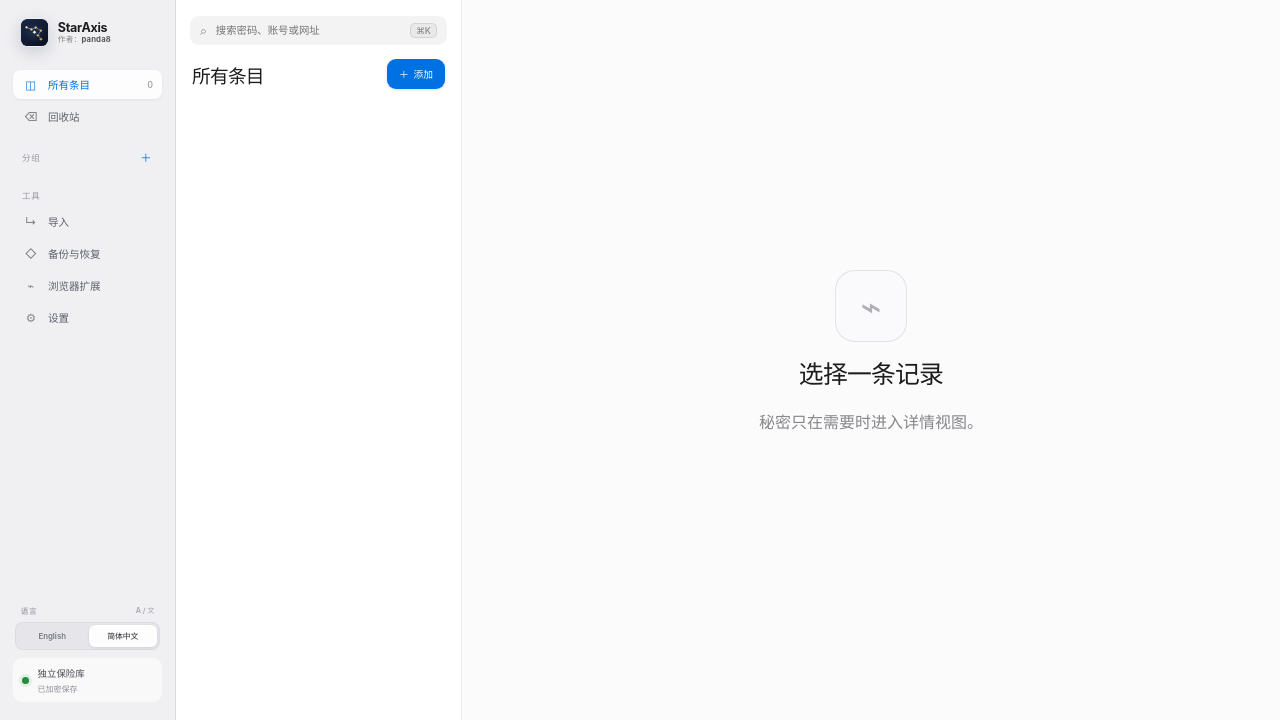
Scenario: E01 mist settings item editors › switches the vault interface language immediately and persists it
This screenshot has width=1280, height=720.
Expected: the element "语言" is shown, [0,0,176,719]
Click the button "English" at (52, 636), box [18,625,86,647]
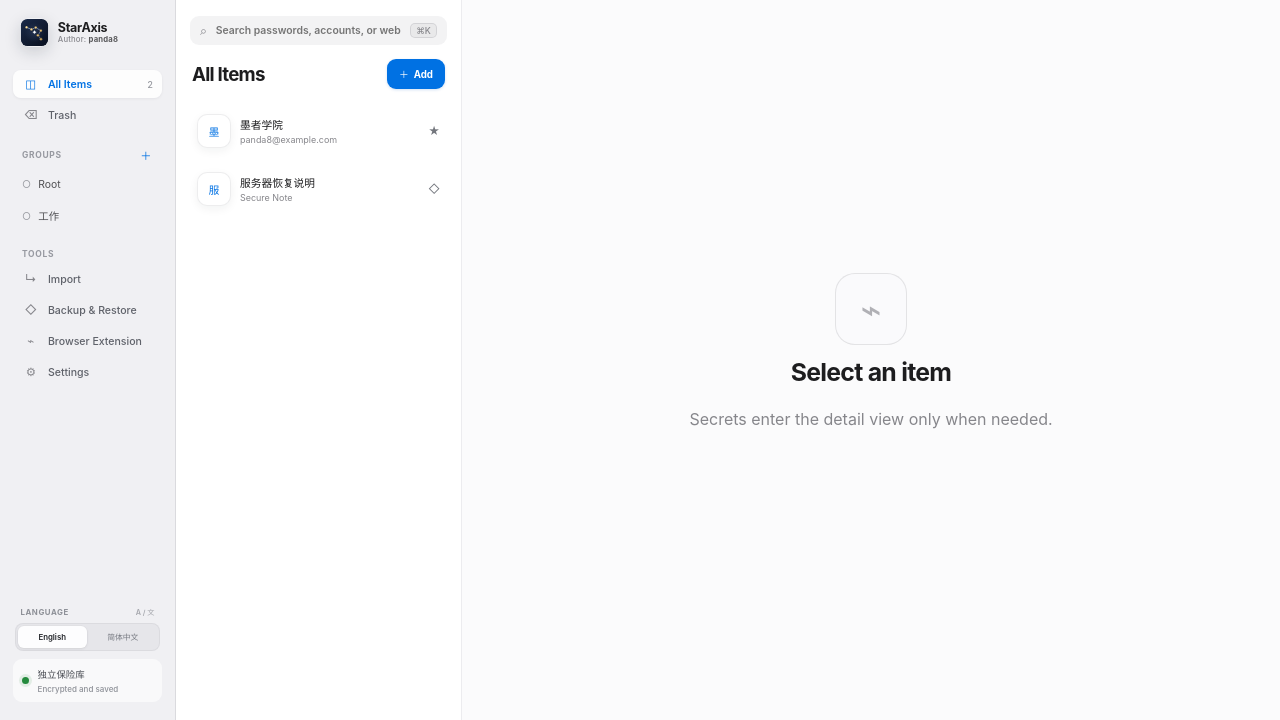
Click the button "⚙ Settings" at (88, 372), box [13,358,162,386]
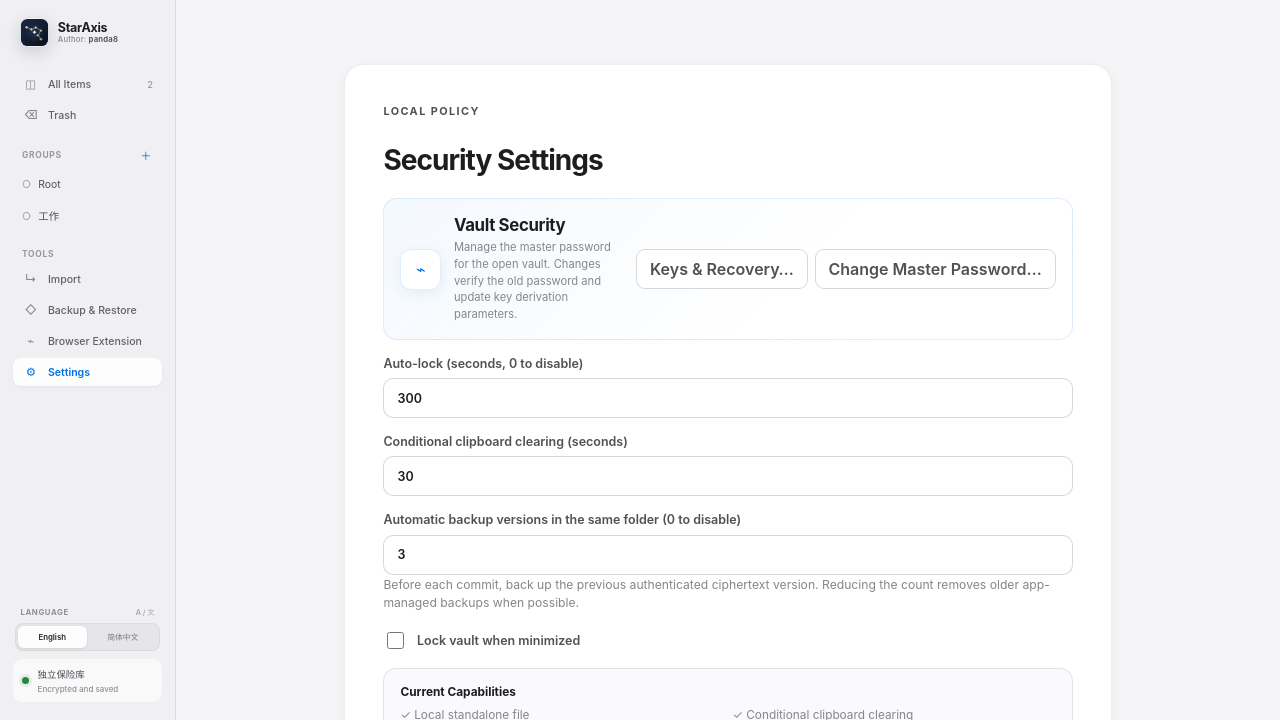
Now the heading "Security Settings" is shown, box [383,143,603,177]
Now the heading "Vault Security" is shown, box [454,215,565,235]
Click the button "简体中文" at (123, 637), box [88,626,157,648]
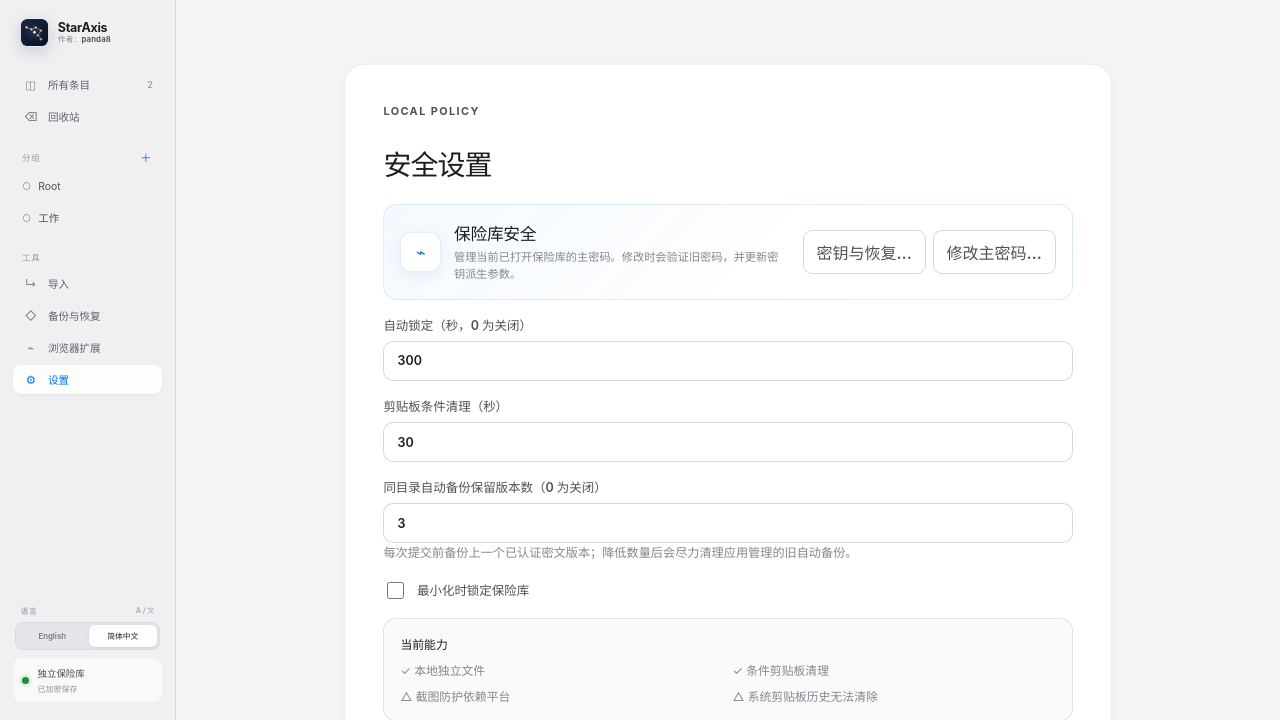
Now the heading "安全设置" is shown, box [383,148,492,182]
